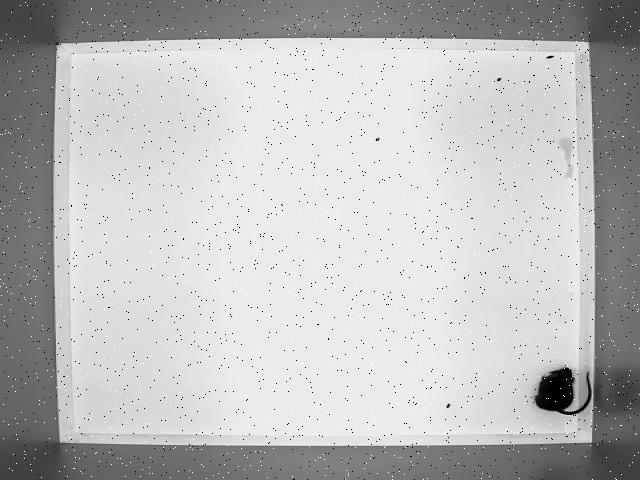Tikus: (532, 361, 595, 418)
